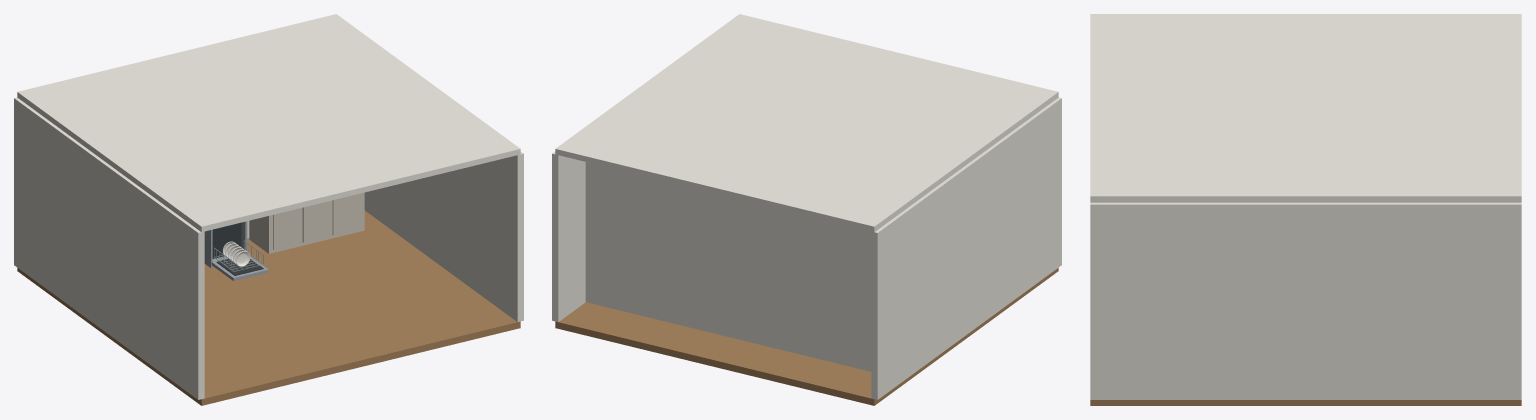
The model's file is kitchen.glb.
The picture shows the model from 3 angles, left to right: view 1: azimuth 30°, elevation 25°; view 2: azimuth 150°, elevation 25°; view 3: azimuth 270°, elevation 25°; orthographic projection. The views are drawn at different scales.
Parts seen in each view (by area): view 1: Ceiling, Floor, Side wall, Side wall.001, Base cabinet.001, Cabinet front.005, Cabinet front.004, Cabinet front.003, Dishwasher cavity; view 2: Ceiling, Back wall, Side wall, Floor, Side wall.001; view 3: Side wall.001, Ceiling, Floor.
Boxes of the visible parts, left/top/right/bottom form: Ceiling: left=17, top=14, right=520, bottom=232; Floor: left=17, top=210, right=520, bottom=405; Side wall: left=14, top=97, right=204, bottom=399; Side wall.001: left=364, top=151, right=523, bottom=321; Base cabinet.001: left=249, top=192, right=364, bottom=253; Cabinet front.005: left=332, top=193, right=361, bottom=235; Cabinet front.004: left=302, top=200, right=331, bottom=242; Cabinet front.003: left=273, top=208, right=301, bottom=249; Dishwasher cavity: left=212, top=222, right=241, bottom=258; Ceiling: left=555, top=14, right=1058, bottom=232; Back wall: left=585, top=162, right=871, bottom=371; Side wall: left=871, top=97, right=1061, bottom=399; Floor: left=555, top=268, right=1058, bottom=405; Side wall.001: left=552, top=151, right=585, bottom=321; Side wall.001: left=1090, top=202, right=1521, bottom=399; Ceiling: left=1090, top=14, right=1521, bottom=202; Floor: left=1090, top=400, right=1521, bottom=405.
Size of the model in its own units: 6.12 by 3.22 by 6.
